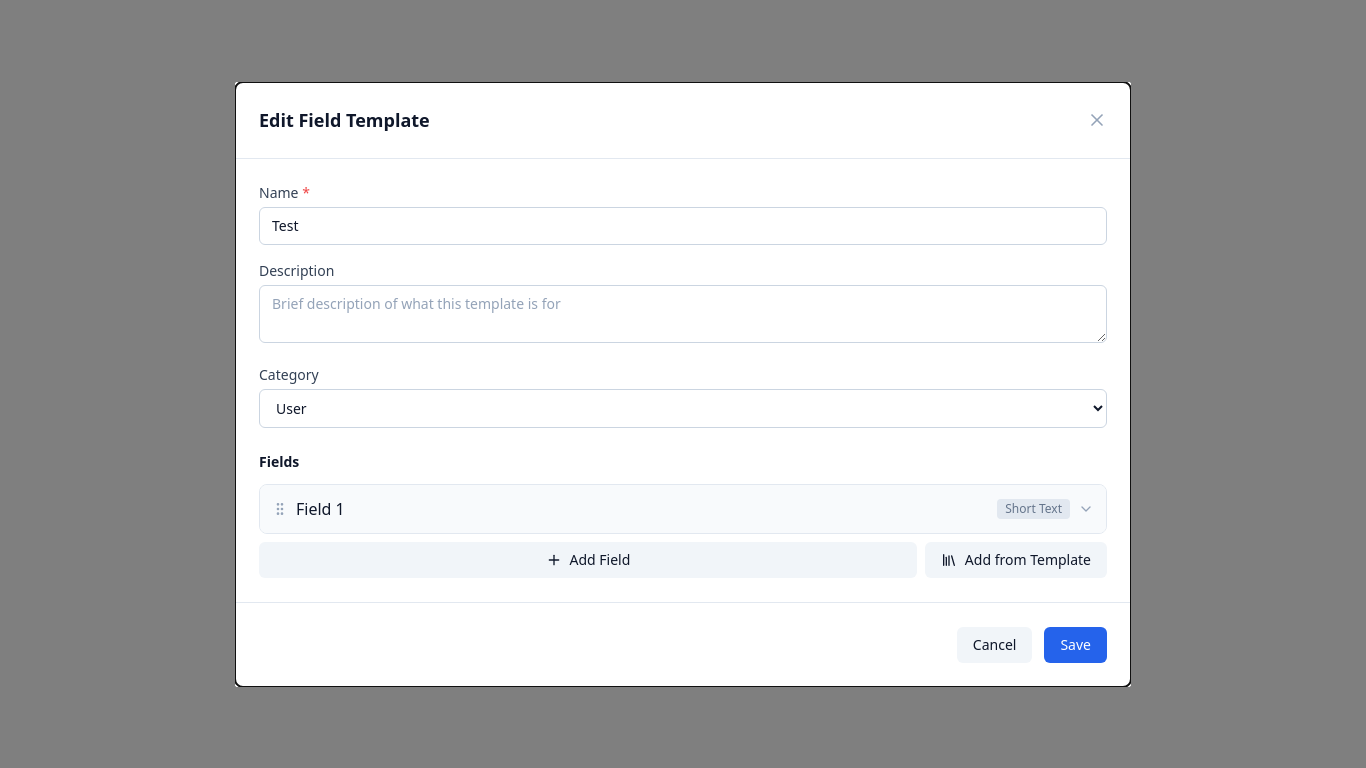
Test: FieldTemplateFormModal - Field Definition Editor (Issue #210) › should allow removing field definitions
# Need to expand the field to see the delete button
Click the text "Field 1": (320, 508) top-left (296, 498), bottom-right (345, 520)
(page scrolled)
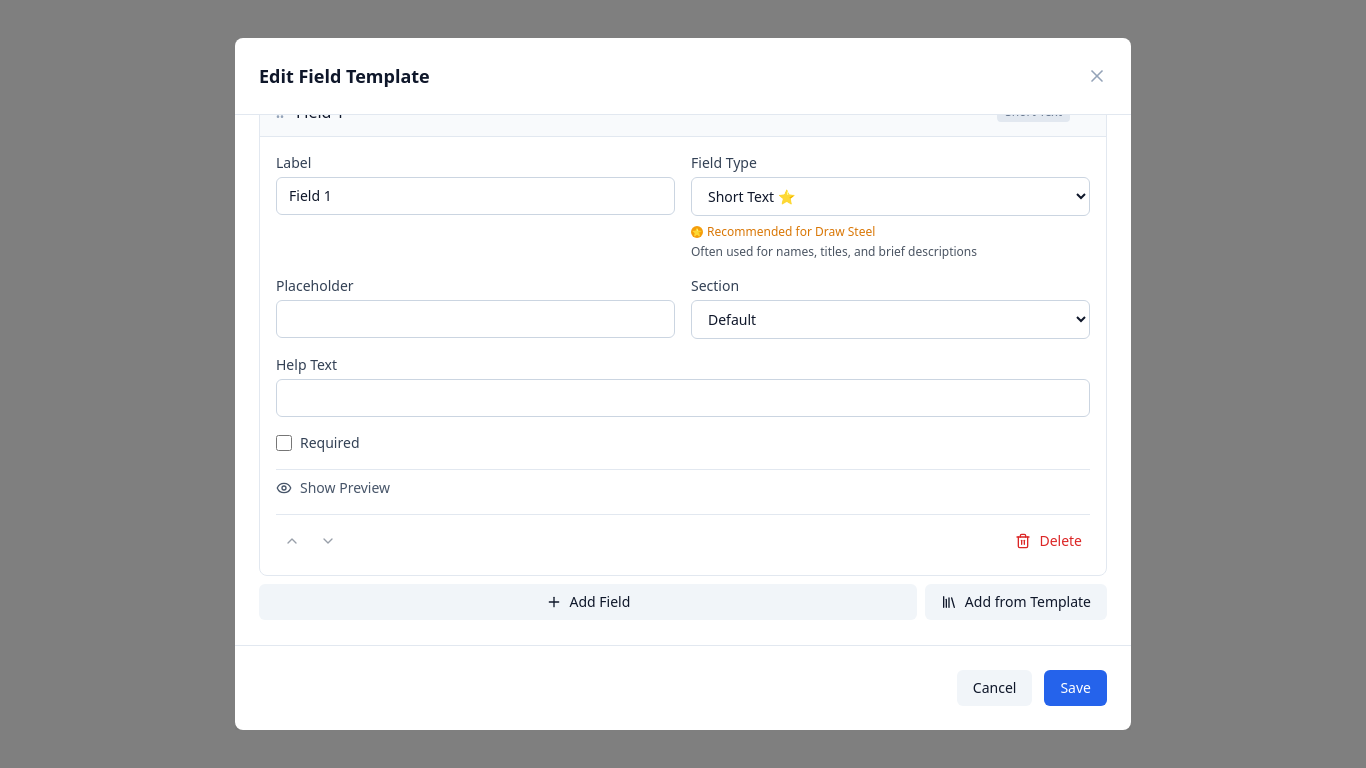
Expected: the button with aria-label "delete field" is shown, top-left (1007, 523), bottom-right (1090, 559)
